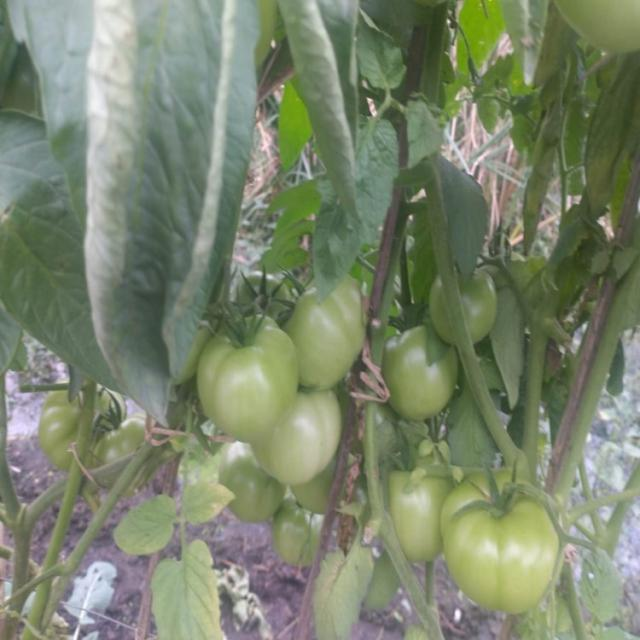tomato: (444, 466, 561, 610), (44, 378, 149, 480), (293, 277, 370, 386), (215, 316, 282, 439), (380, 465, 440, 566), (385, 346, 459, 423), (429, 266, 497, 344), (555, 1, 639, 58), (216, 446, 273, 522), (291, 398, 343, 480), (281, 500, 331, 567), (239, 272, 281, 312)
